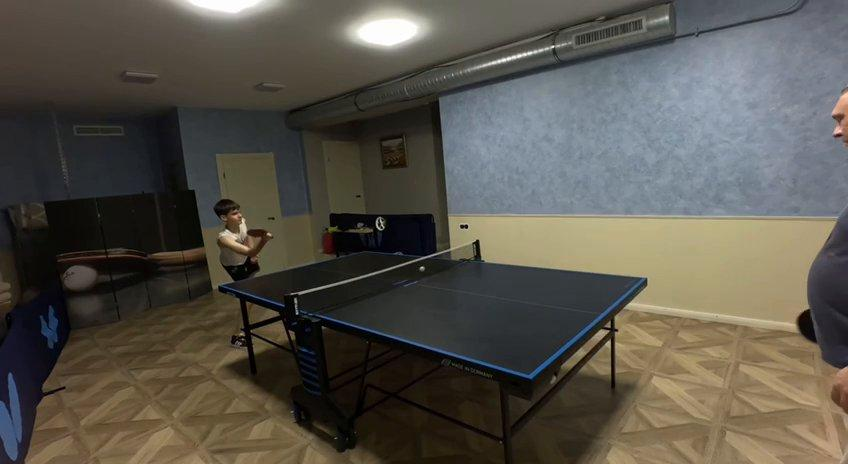Ball: (418, 264, 427, 276)
Net: (280, 239, 483, 328)
Player1: (214, 199, 269, 280)
Player2: (806, 207, 847, 412), (832, 86, 847, 146)
Table: (233, 250, 646, 376)
